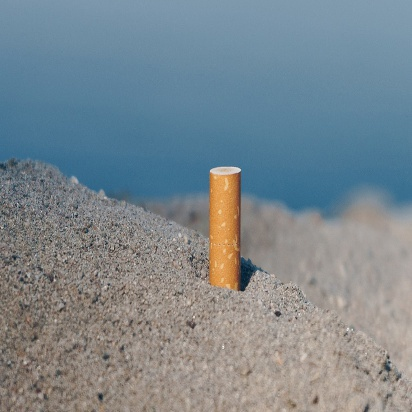cigarette: (203, 158, 248, 296)
